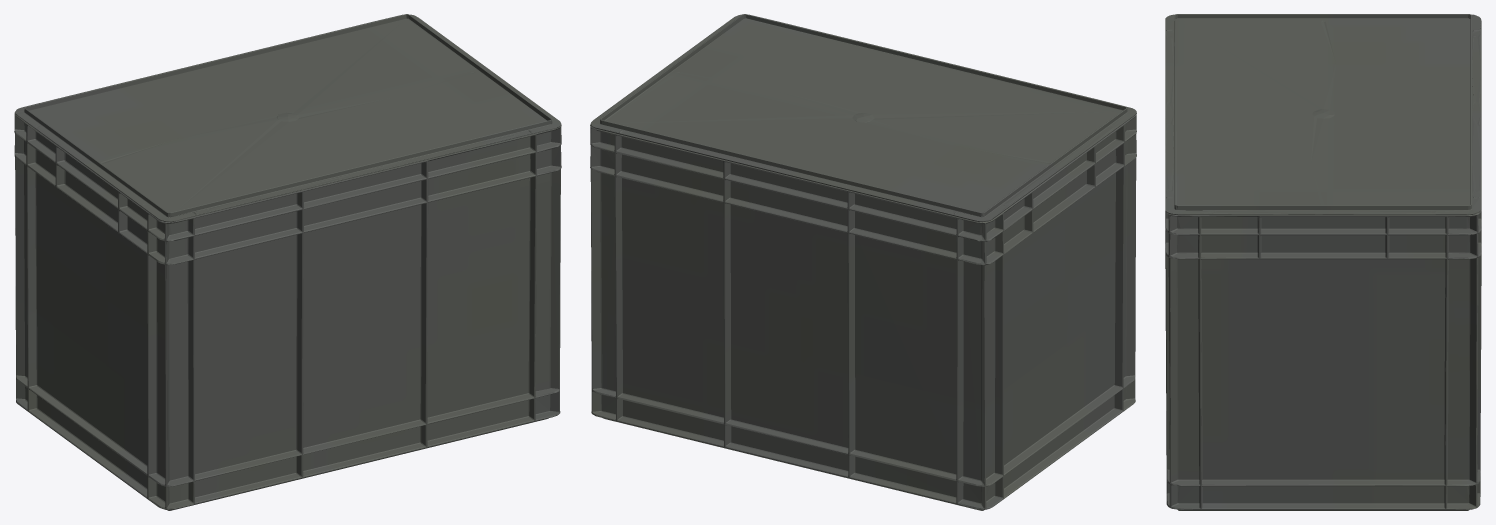
File: SM_Container_C04_Gray_01.glb
3 views of the same model, side by side, from view 1: azimuth 30°, elevation 25°; view 2: azimuth 150°, elevation 25°; view 3: azimuth 270°, elevation 25° (orthographic). The views are drawn at different scales.
Visible parts, largest first — view 1: Plastic_Gray_A_0; view 2: Plastic_Gray_A_0; view 3: Plastic_Gray_A_0.
Part boxes in pixels (<box>): Plastic_Gray_A_0: <box>14,14,561,510</box>; Plastic_Gray_A_0: <box>590,14,1136,510</box>; Plastic_Gray_A_0: <box>1165,14,1481,510</box>.
Size of the model in its own units: 0.6 by 0.428 by 0.4001.
1 material, 1 textured.
